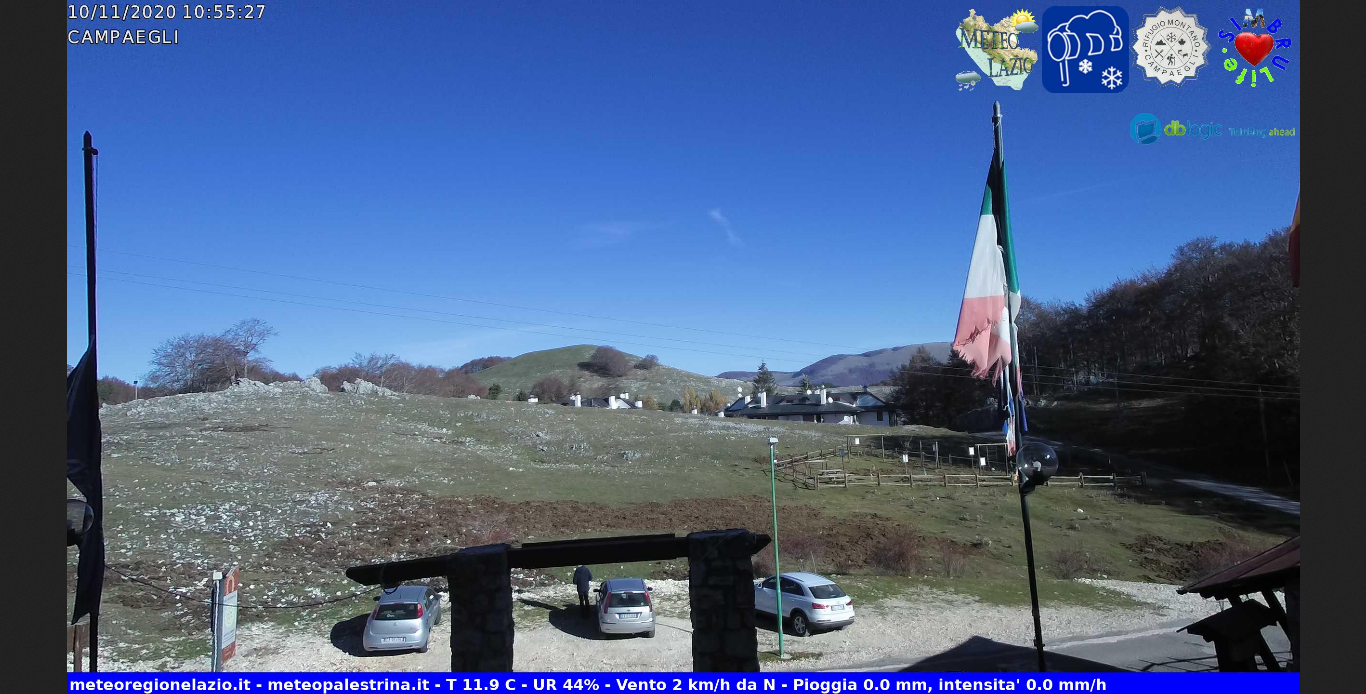no: (952, 96, 1046, 435)
